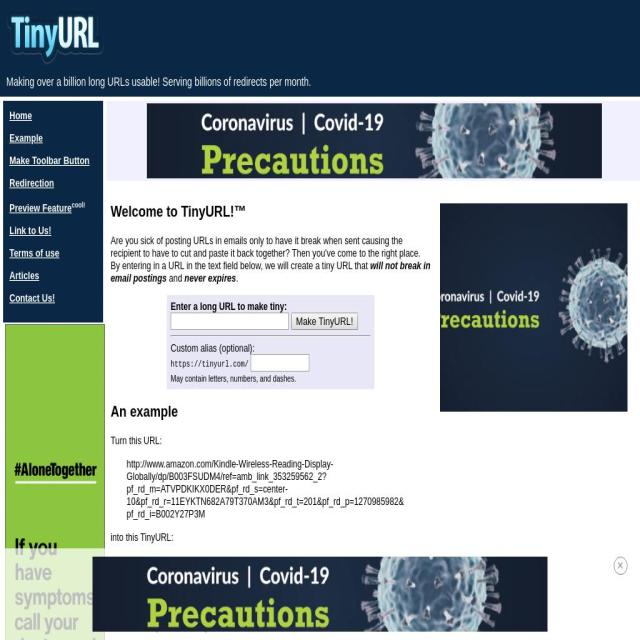field: (170, 312, 288, 330), (291, 312, 358, 330), (251, 354, 310, 373)
heading: (111, 402, 634, 422), (111, 615, 634, 634), (111, 202, 634, 220), (6, 8, 104, 65)
iframe: (440, 203, 628, 412), (92, 556, 548, 632), (146, 104, 602, 178), (5, 324, 105, 640)
link: (126, 553, 241, 567), (10, 154, 90, 167), (9, 202, 72, 215), (10, 247, 60, 260), (9, 224, 52, 238), (9, 292, 55, 305), (10, 177, 54, 189), (10, 269, 40, 283), (10, 132, 42, 144), (9, 109, 32, 122)
text: (126, 457, 408, 521), (110, 233, 420, 272), (110, 258, 430, 284), (111, 576, 398, 602), (111, 434, 634, 448), (7, 75, 312, 88), (171, 299, 287, 313), (171, 374, 296, 384), (170, 342, 254, 355), (170, 359, 248, 370), (111, 530, 173, 543), (184, 271, 237, 284), (613, 557, 628, 575), (167, 271, 184, 284), (71, 201, 85, 209), (236, 271, 238, 284)
